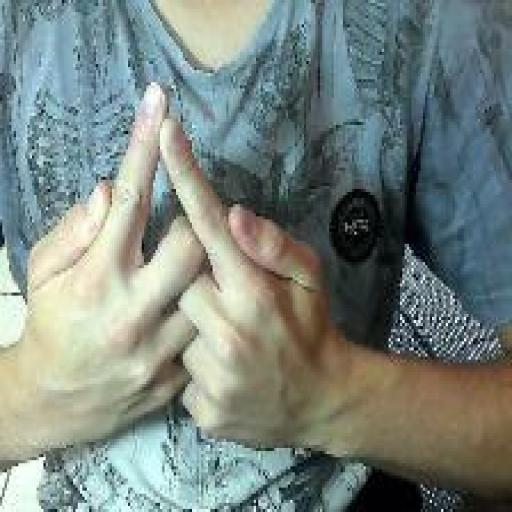Uma -horse-: (24, 79, 333, 457)
